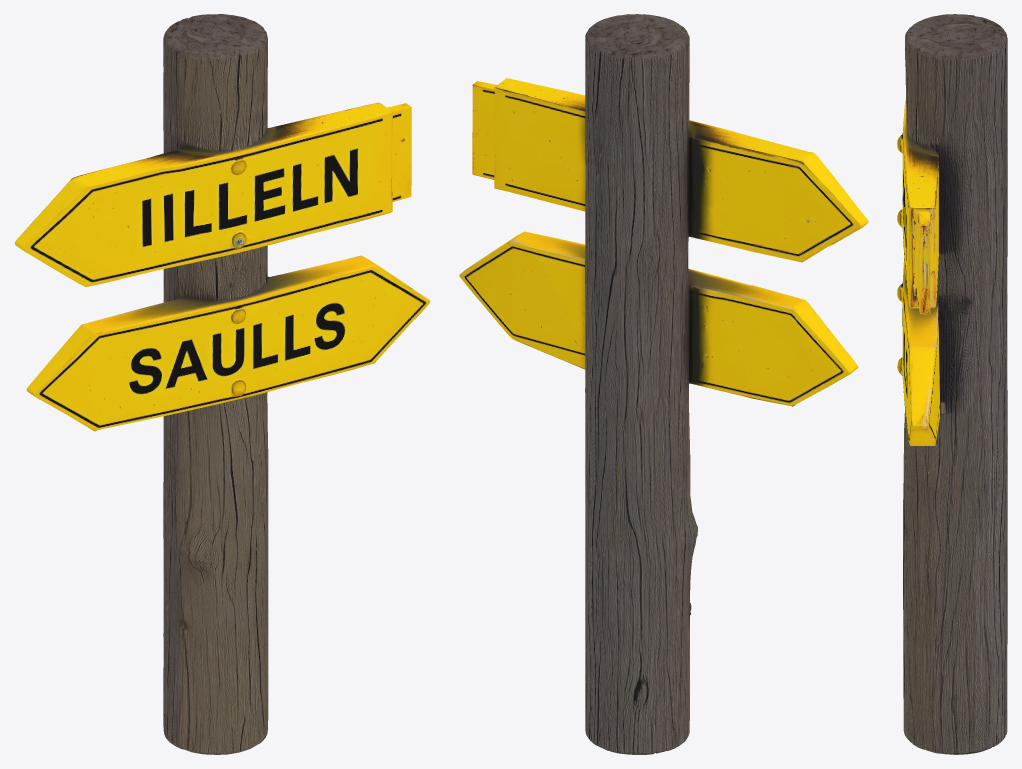
File: guidepost.glb
The picture shows the model from 3 angles, left to right: view 1: azimuth 30°, elevation 25°; view 2: azimuth 150°, elevation 25°; view 3: azimuth 270°, elevation 25°; orthographic projection.
Bounding box in the file's own units: 1.15 × 1.9 × 0.2714.
Materials: 1 (1 with a texture image).
